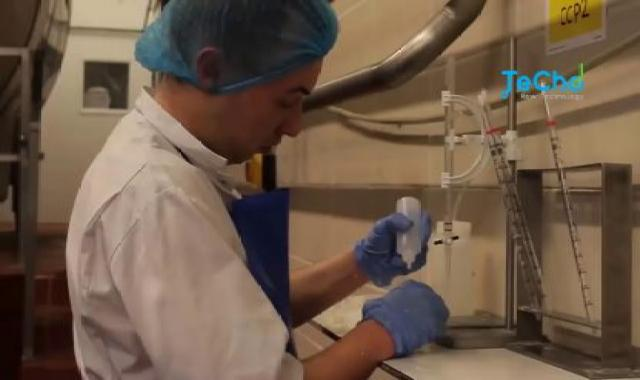hairnet: (128, 0, 342, 92)
